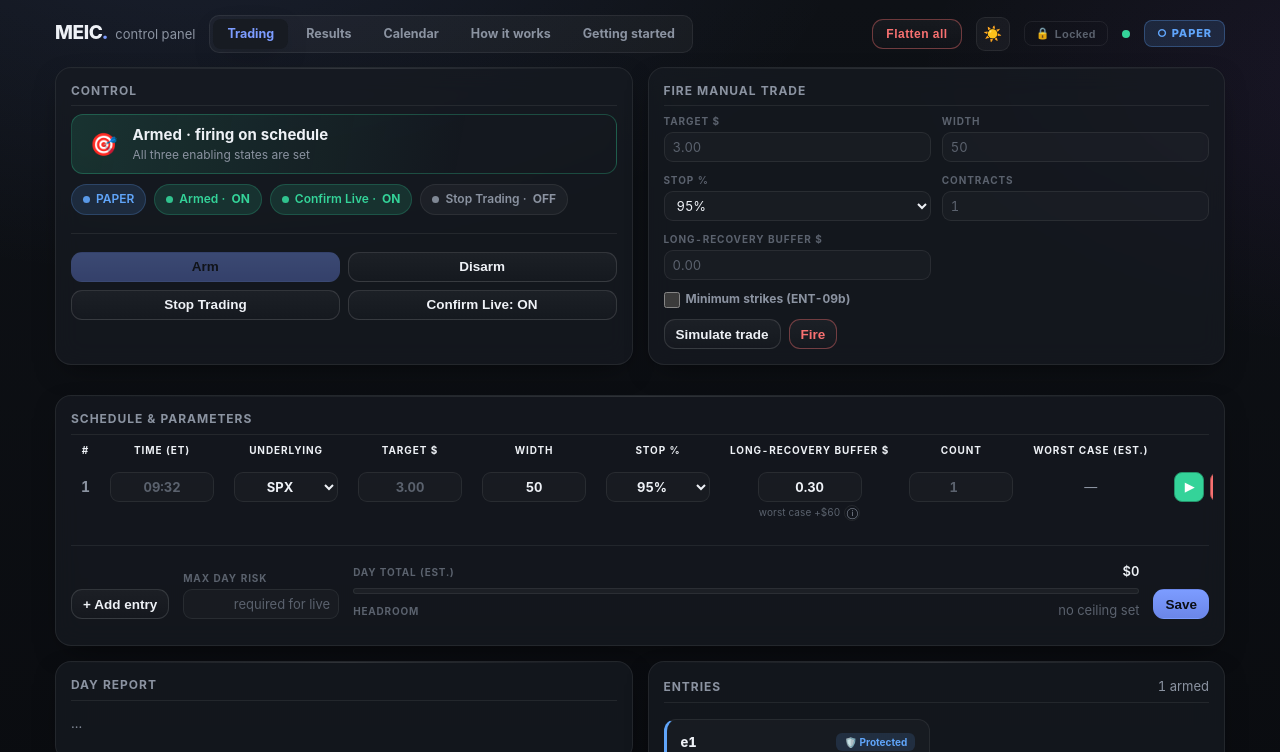
Scenario: App — Close / Flatten (UI-16 / TC-FLT-01) › shows a red cross and a popup when the User Password is wrong (401)
The width and height of the screenshot is (1280, 752).
Click the button with aria-label "user password" at (1066, 34), box [1024,21,1108,46]
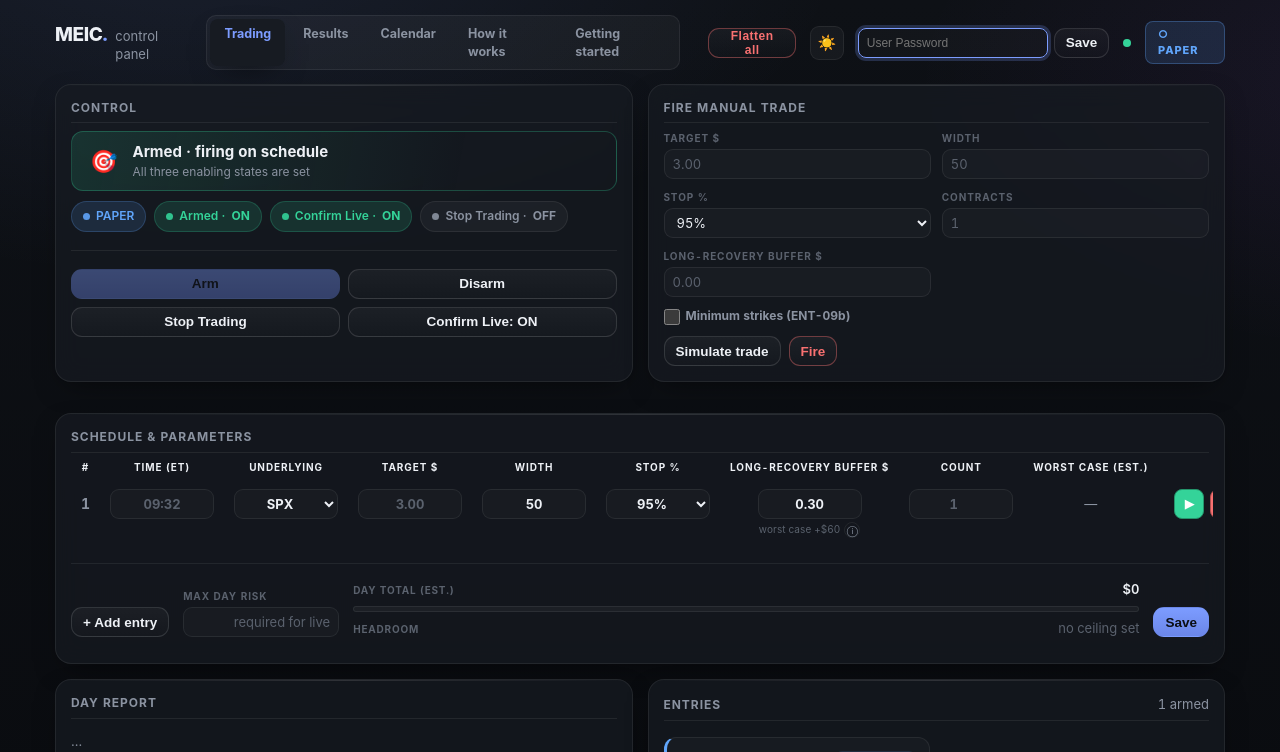
Type "wrong" into the password field labelled "User Password" at (953, 42), box [858,28,1048,58]
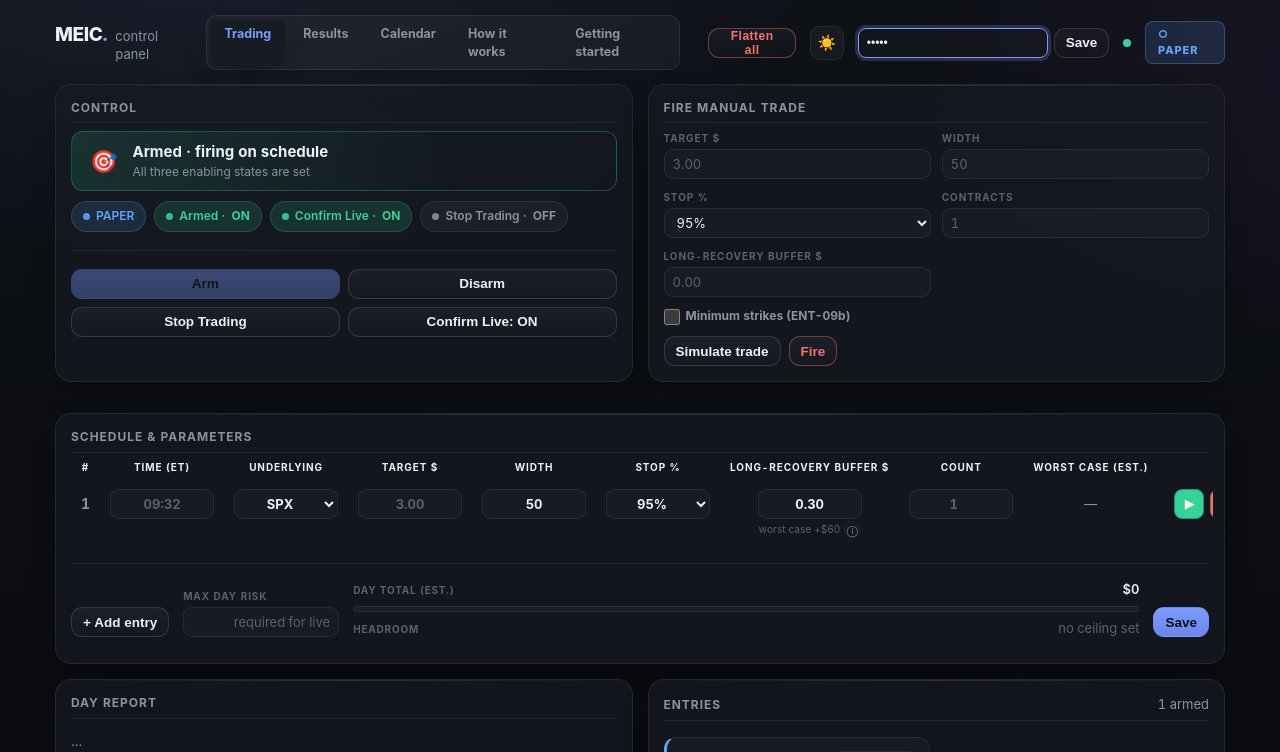
Click the button with aria-label "save user password" at (1082, 42), box [1054,28,1109,58]
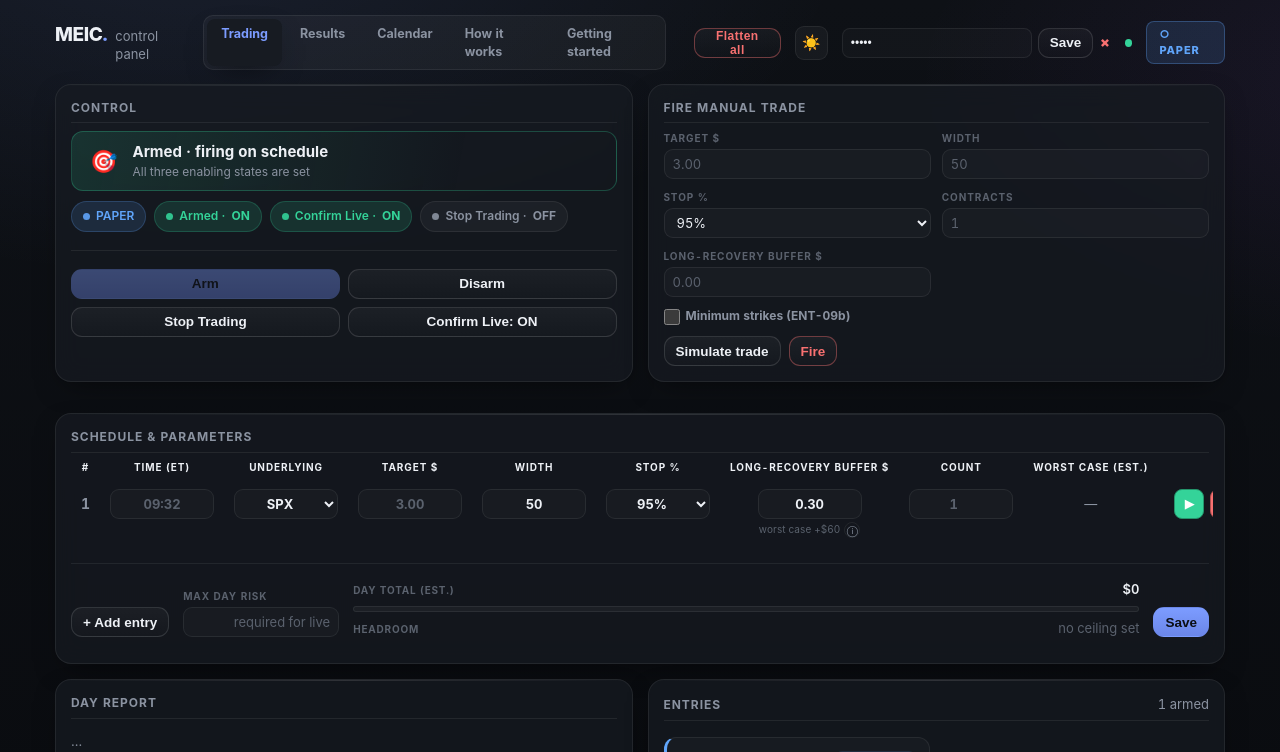
Now the message named "password wrong" reads "✗", box [1099,34,1111,50]
